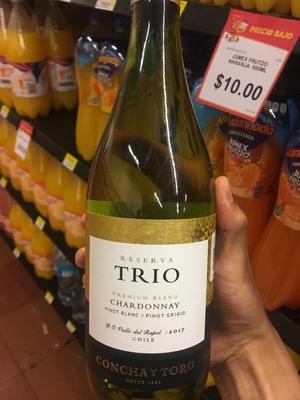trio chardonnay: (81, 21, 229, 400)
